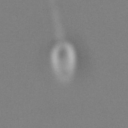normal: (44, 1, 73, 41)
